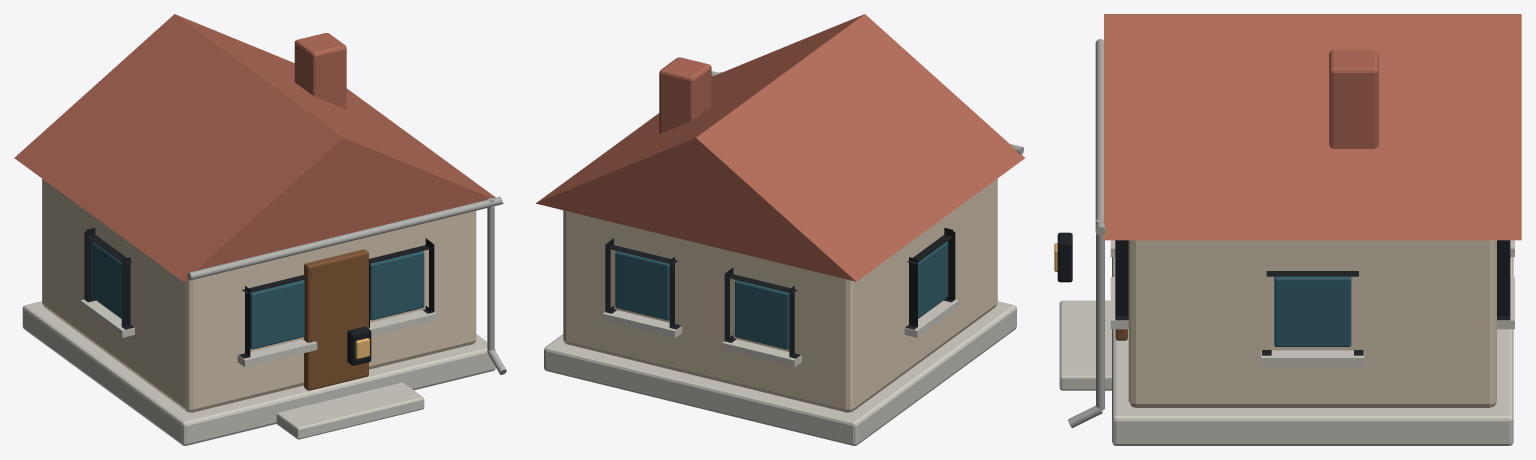
File: RES_LOW_1x1_001.glb
The picture shows the model from 3 angles, left to right: view 1: azimuth 30°, elevation 25°; view 2: azimuth 150°, elevation 25°; view 3: azimuth 270°, elevation 25°; orthographic projection. The views are drawn at different scales.
Parts seen in each view (by area): view 1: RES_LOW_1x1_001_Visual; view 2: RES_LOW_1x1_001_Visual; view 3: RES_LOW_1x1_001_Visual.
Boxes of the visible parts, x1=… form: RES_LOW_1x1_001_Visual: x1=14, y1=14, x2=506, y2=445; RES_LOW_1x1_001_Visual: x1=536, y1=14, x2=1024, y2=445; RES_LOW_1x1_001_Visual: x1=1054, y1=14, x2=1521, y2=445.
Size of what is drawn, in the model's own units: 1.66 by 1.37 by 1.7.
